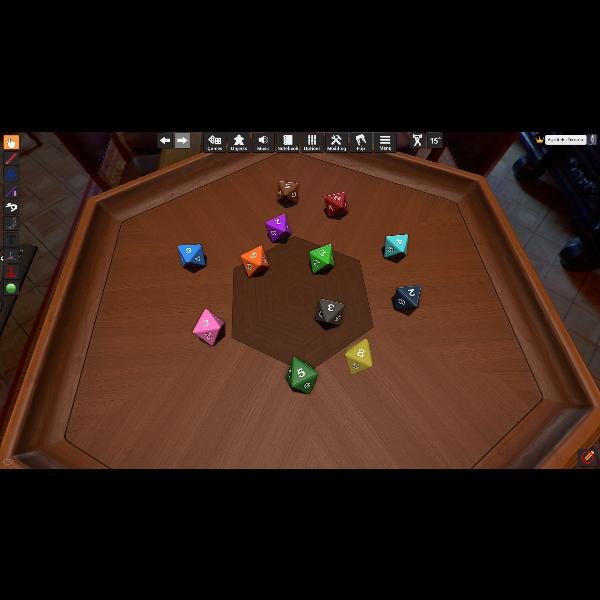d8: (192, 307, 224, 345), (344, 338, 372, 374), (287, 358, 315, 392), (240, 246, 268, 276), (316, 297, 342, 325), (308, 243, 332, 273), (394, 284, 420, 310), (266, 214, 290, 242), (178, 244, 205, 268), (384, 234, 408, 258), (325, 191, 346, 217), (277, 180, 297, 204)
